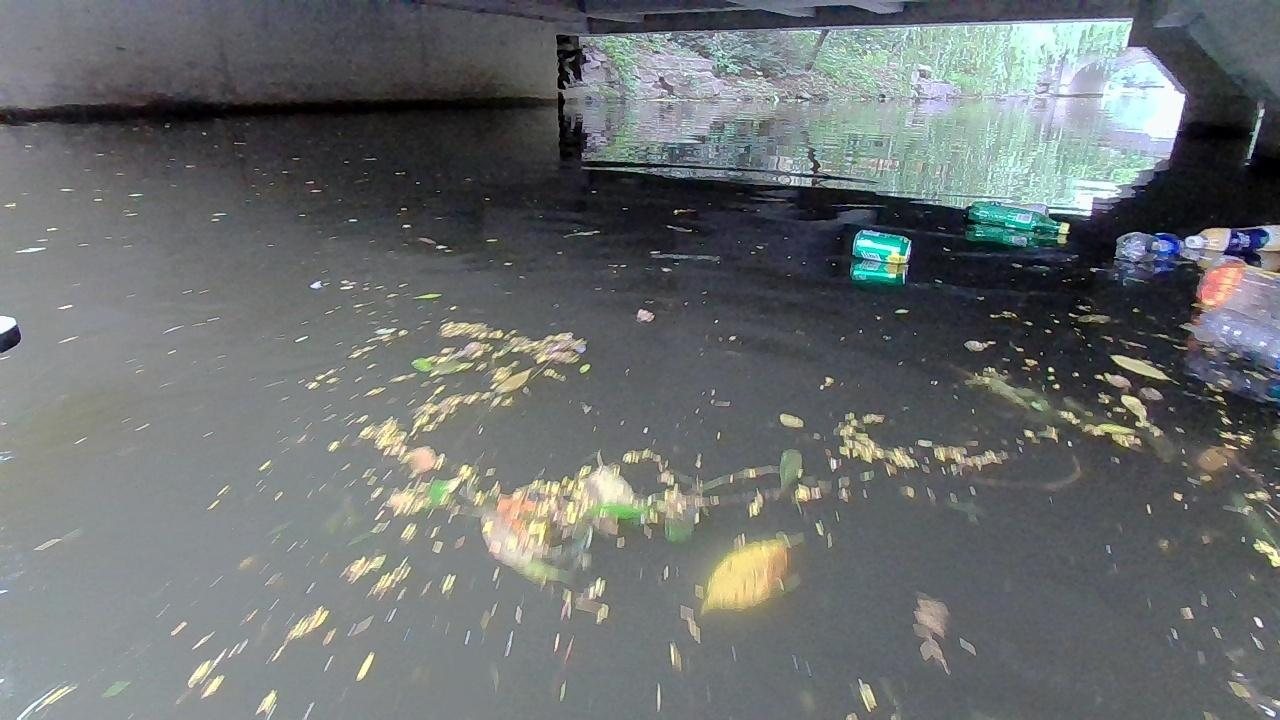bottle: (1198, 304, 1279, 363), (1196, 257, 1279, 312), (963, 200, 1071, 236), (1182, 220, 1279, 251), (854, 228, 911, 260), (1122, 231, 1185, 259)
